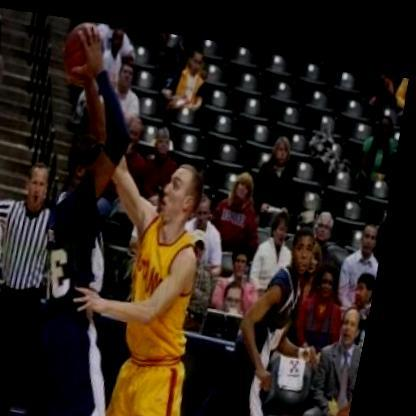basketball: (54, 13, 117, 88)
